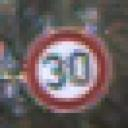speed_limit_30: (25, 26, 114, 114)
